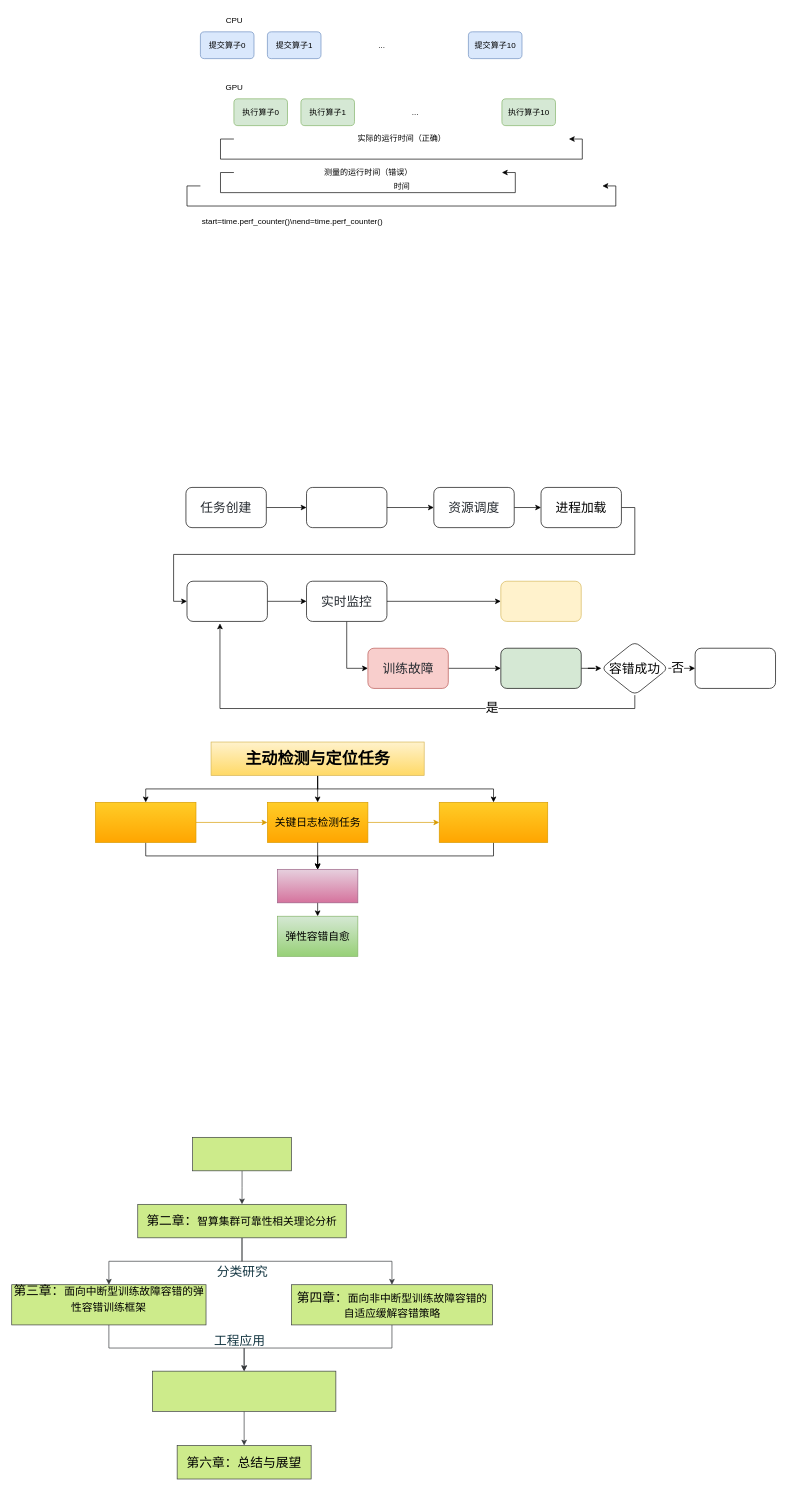
Image size: 787x1491. Some labels were removed from this diagram. The shapes that lost their labels are listed below. From the top down, each one's box as (x1, y1, x2, y2) in pixels, then its label:
(306, 487, 387, 528): 任务排队
(186, 581, 267, 621): 训练执行
(500, 581, 581, 621): 训练完成
(500, 648, 581, 688): 容错恢复
(694, 648, 776, 688): 训练终止
(95, 802, 196, 843): 训练环境预检测任务
(439, 802, 548, 843): 故障节点检测 任务
(277, 869, 358, 903): 故障定位
(192, 1137, 291, 1171): 第一章：绪论
(152, 1370, 336, 1411): 第五章： 面向智算集群可靠性 的训练故障容错应用分析
